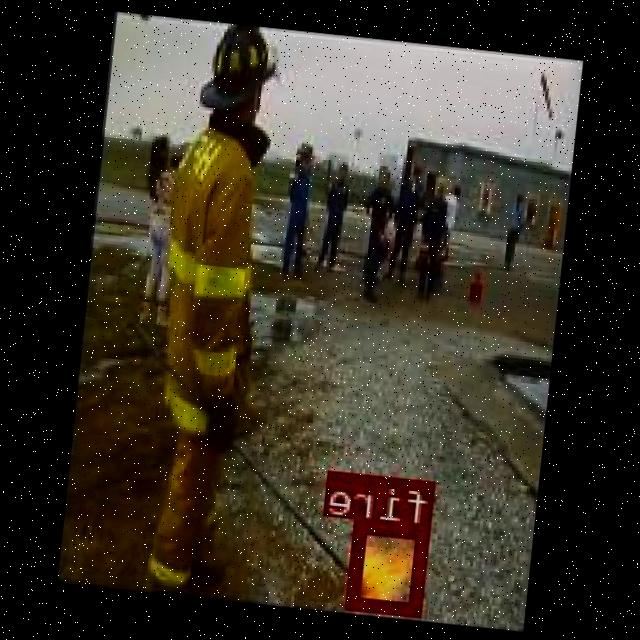fire: (348, 519, 432, 613)
